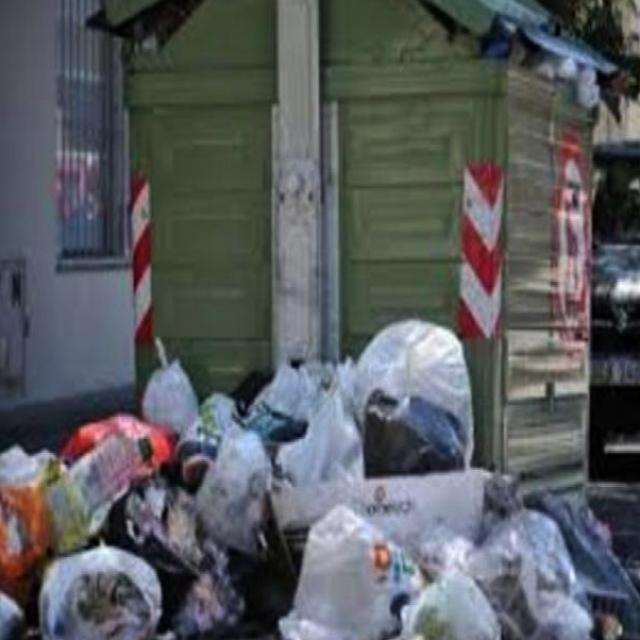garbage: (0, 310, 640, 640), (486, 0, 632, 126)
